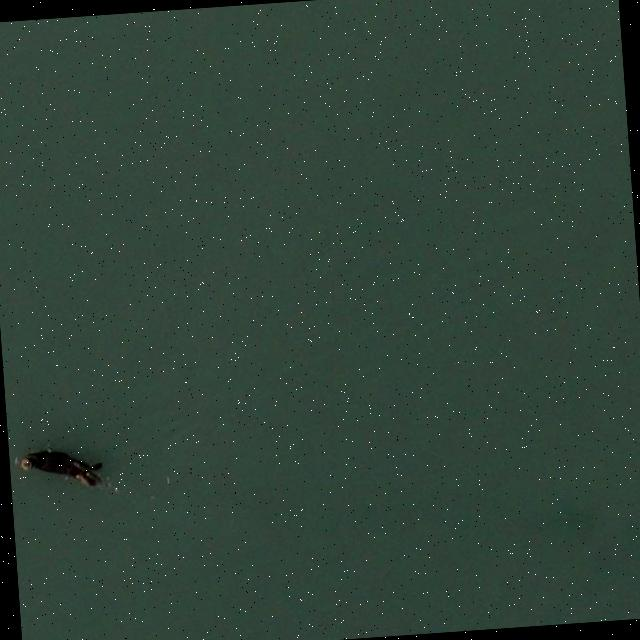seal: (17, 444, 107, 491)
